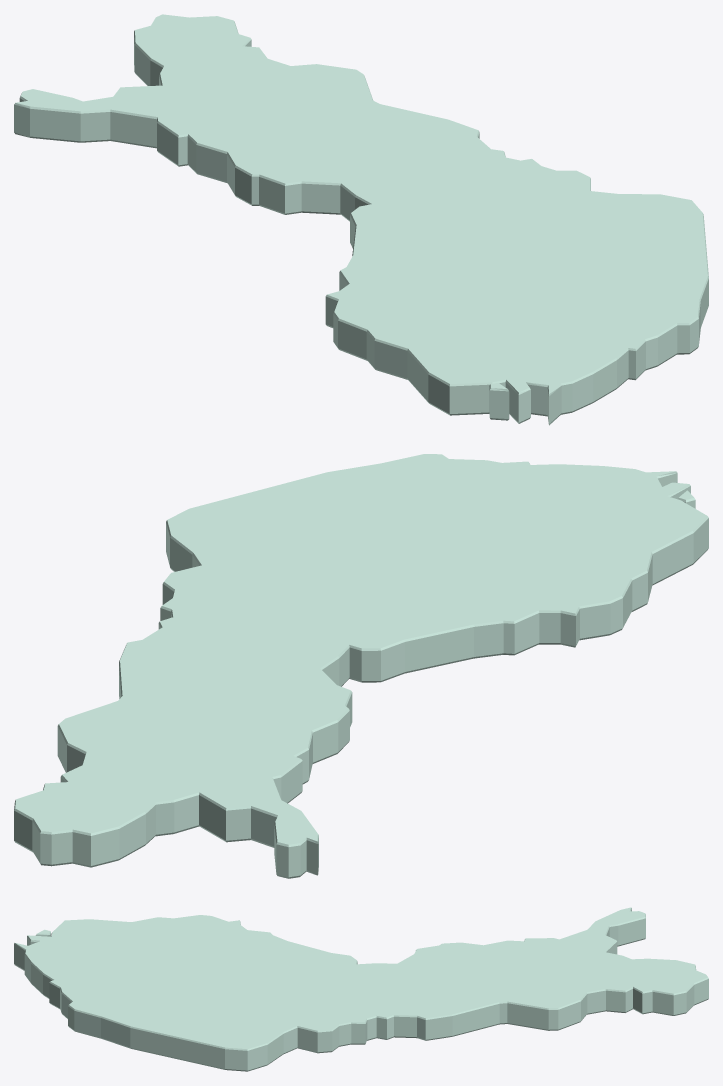
Rendered from FIN.glb.
3 views of the same model, one above another, from view 1: azimuth 30°, elevation 25°; view 2: azimuth 150°, elevation 25°; view 3: azimuth 270°, elevation 25° (orthographic). The views are drawn at different scales.
Size of the model in its own units: 0.9267 by 0.068 by 1.91.
